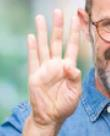right: (24, 9, 84, 122)
